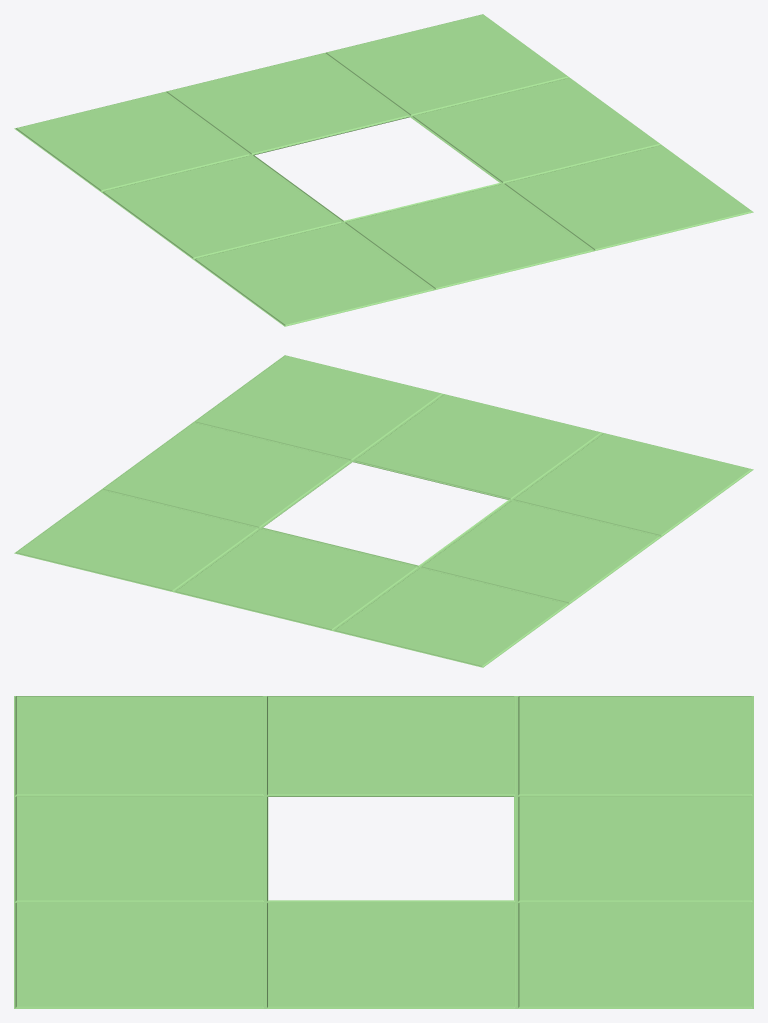
File: Room_ceiling_corner_in_w_light.fbx
3 views of the same model, one above another, from view 1: azimuth 30°, elevation 25°; view 2: azimuth 150°, elevation 25°; view 3: azimuth 270°, elevation 25° (orthographic). The views are drawn at different scales.
Visible parts, largest first — view 1: Room_ceiling_corner; view 2: Room_ceiling_corner; view 3: Room_ceiling_corner.
Part boxes in pixels (<box>): Room_ceiling_corner: <box>14,14,753,326</box>; Room_ceiling_corner: <box>14,355,753,667</box>; Room_ceiling_corner: <box>14,696,753,1008</box>.
Size of the model in its own units: 1.96 by 0.00309 by 1.96.
